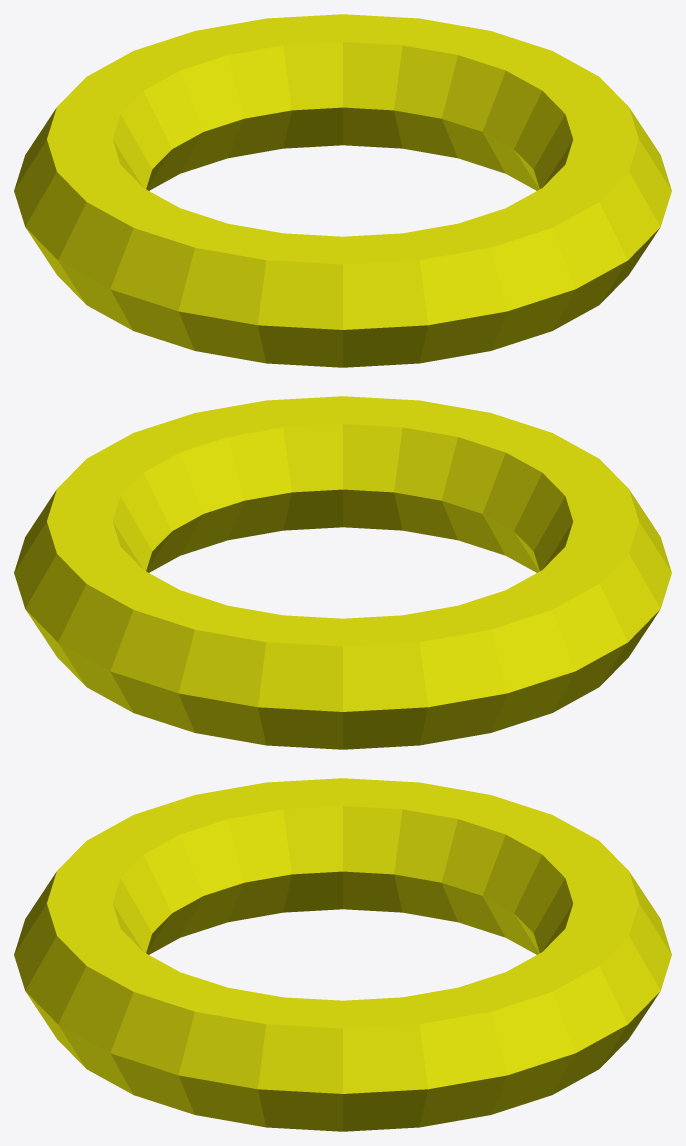
The model's file is AroAeri.fbx.
3 views of the same model, one above another, from view 1: azimuth 30°, elevation 25°; view 2: azimuth 150°, elevation 25°; view 3: azimuth 270°, elevation 25° (orthographic).
Parts seen in each view (by area): view 1: Torus; view 2: Torus; view 3: Torus.
Part boxes in pixels (bbox=[...]): Torus: bbox=[14, 14, 671, 367]; Torus: bbox=[14, 396, 671, 749]; Torus: bbox=[14, 778, 671, 1131].
Bounding box in the file's own units: 250 × 43.3 × 250.
